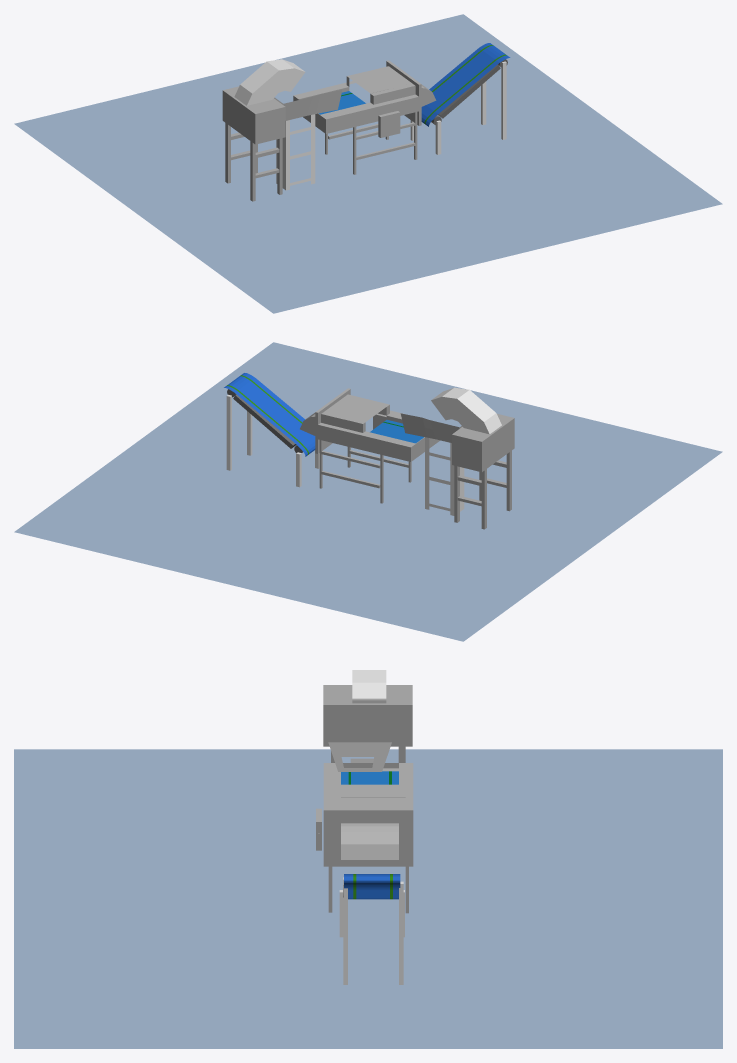
The model's file is machine1.glb.
3 renders of one model, top to bottom at view 1: azimuth 30°, elevation 25°; view 2: azimuth 150°, elevation 25°; view 3: azimuth 270°, elevation 25°, orthographic. The views are drawn at different scales.
Parts seen in each view (by area): view 1: Plane, Cube, Cube.001, Cylinder.001, Cube.005, Cube.006, Cylinder.003; view 2: Plane, Cube, Cube.001, Cylinder.001, Cube.005, Cube.006, Cylinder.003; view 3: Plane, Cube, Cube.001, Cube.005, Cylinder.001, Cube.006.
Part boxes in pixels (x1,y1,x2,y2): Plane: [14, 14, 722, 313]; Cube: [293, 60, 436, 174]; Cube.001: [222, 86, 285, 201]; Cylinder.001: [421, 43, 510, 126]; Cube.005: [274, 90, 342, 190]; Cube.006: [234, 59, 305, 105]; Cylinder.003: [438, 59, 507, 118]; Plane: [14, 342, 722, 641]; Cube: [300, 388, 440, 503]; Cube.001: [452, 413, 514, 529]; Cylinder.001: [224, 373, 315, 456]; Cube.005: [400, 413, 464, 515]; Cube.006: [431, 387, 501, 434]; Cylinder.003: [227, 389, 296, 448]; Plane: [14, 749, 722, 1048]; Cube: [316, 763, 413, 913]; Cube.001: [323, 685, 412, 762]; Cube.005: [328, 742, 391, 771]; Cylinder.001: [344, 874, 400, 899]; Cube.006: [352, 670, 386, 703].
Size of the model in its own units: 15.88 by 4.29 by 15.88.
